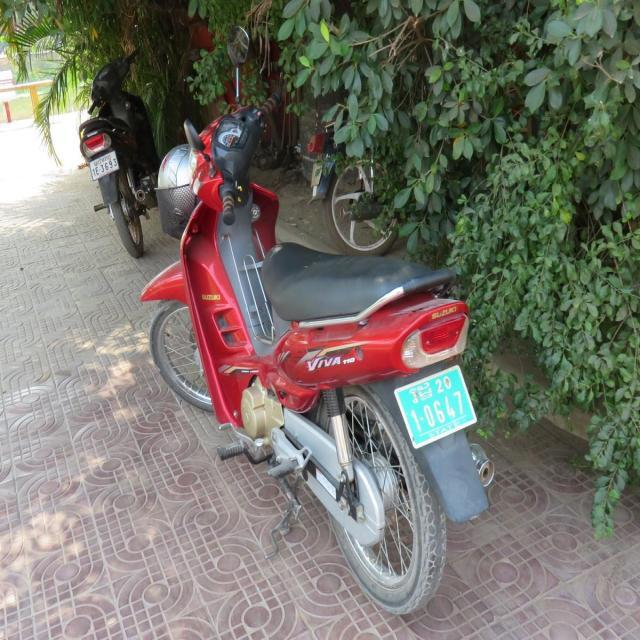State: (408, 381, 433, 404)
